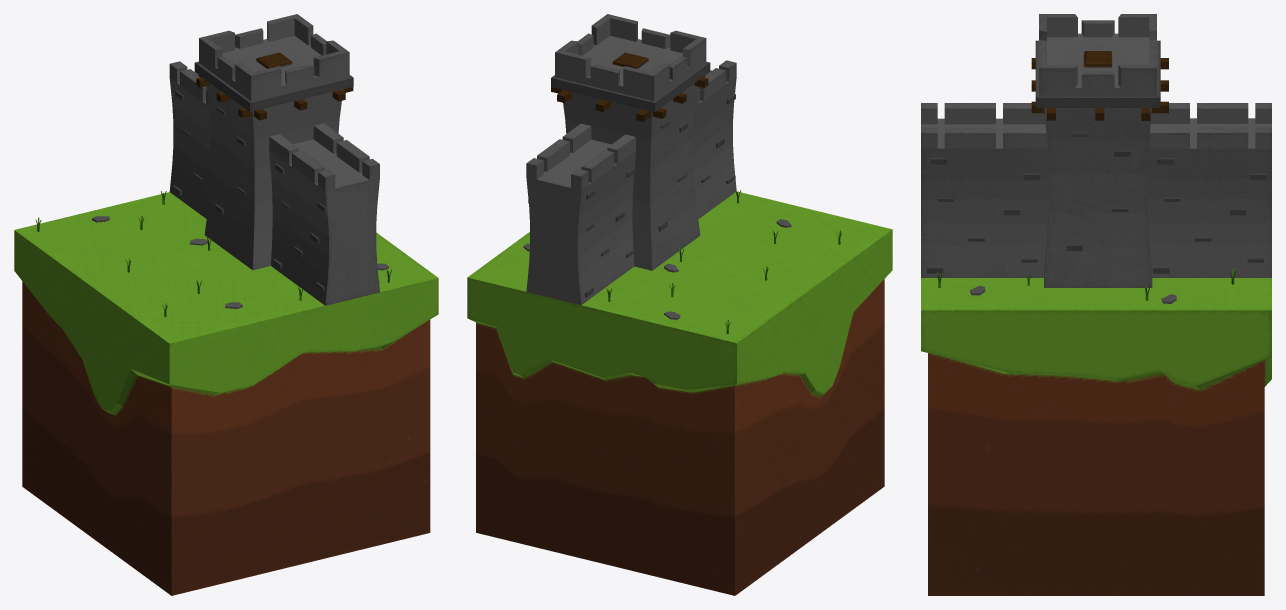
File: Concepts_27.fbx
3 views of the same model, side by side, from view 1: azimuth 30°, elevation 25°; view 2: azimuth 150°, elevation 25°; view 3: azimuth 270°, elevation 25° (orthographic). The views are drawn at different scales.
Parts seen in each view (by area): view 1: Cube.242, Cube.018, Cube.293; view 2: Cube.242, Cube.018, Cube.293; view 3: Cube.242, Cube.018.
Boxes of the visible parts, box(x1,y1,x2,y2) form: Cube.242: box(14, 192, 438, 595); Cube.018: box(169, 14, 379, 305); Cube.293: box(36, 191, 391, 317); Cube.242: box(467, 191, 892, 595); Cube.018: box(526, 14, 736, 304); Cube.293: box(523, 190, 841, 333); Cube.242: box(921, 278, 1271, 595); Cube.018: box(921, 14, 1271, 287).
Bounding box in the file's own units: 301 × 484 × 301.
